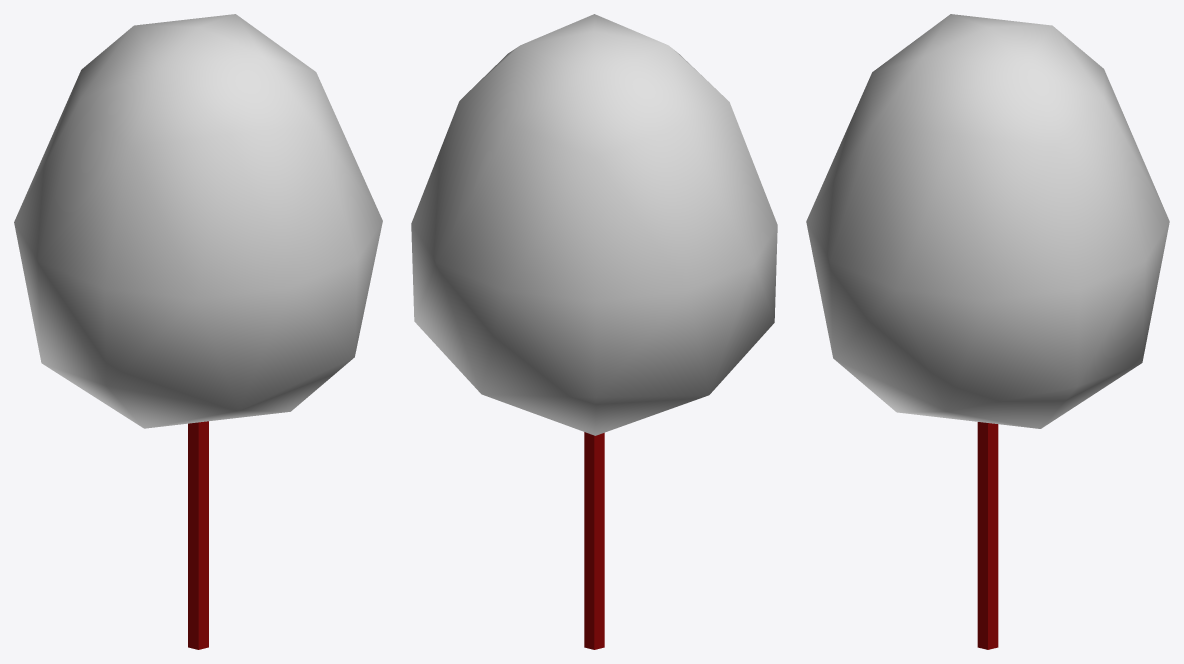
File: SM_LargeMaple.fbx
The picture shows the model from 3 angles, left to right: view 1: azimuth 30°, elevation 25°; view 2: azimuth 150°, elevation 25°; view 3: azimuth 270°, elevation 25°; orthographic projection.
Visible parts, largest first — view 1: Large_Leaf_Maple001, Small_Truck_Maple001; view 2: Large_Leaf_Maple001, Small_Truck_Maple001; view 3: Large_Leaf_Maple001, Small_Truck_Maple001.
Part boxes in pixels (x1=…): Large_Leaf_Maple001: x1=14, y1=14, x2=382, y2=428; Small_Truck_Maple001: x1=188, y1=421, x2=208, y2=649; Large_Leaf_Maple001: x1=411, y1=14, x2=777, y2=435; Small_Truck_Maple001: x1=584, y1=432, x2=604, y2=649; Large_Leaf_Maple001: x1=806, y1=14, x2=1169, y2=428; Small_Truck_Maple001: x1=977, y1=422, x2=998, y2=649.
Size of the model in its own units: 66.82 by 123 by 65.54.
